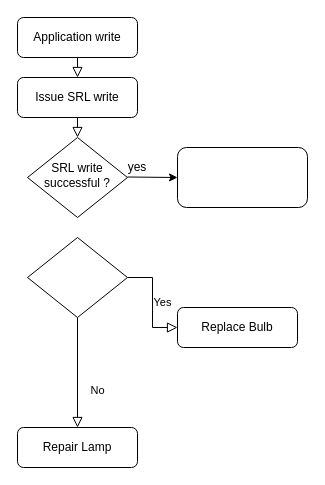
The diagram is 325 pixels wide and 485 high, and some of its shapes have lost their labels. Here are the shapes that lost their labels. From the top down, the box of each, then its label:
(176, 146, 308, 208): Continue to next phases of write and replication
(26, 236, 128, 318): Bulb burned out?
